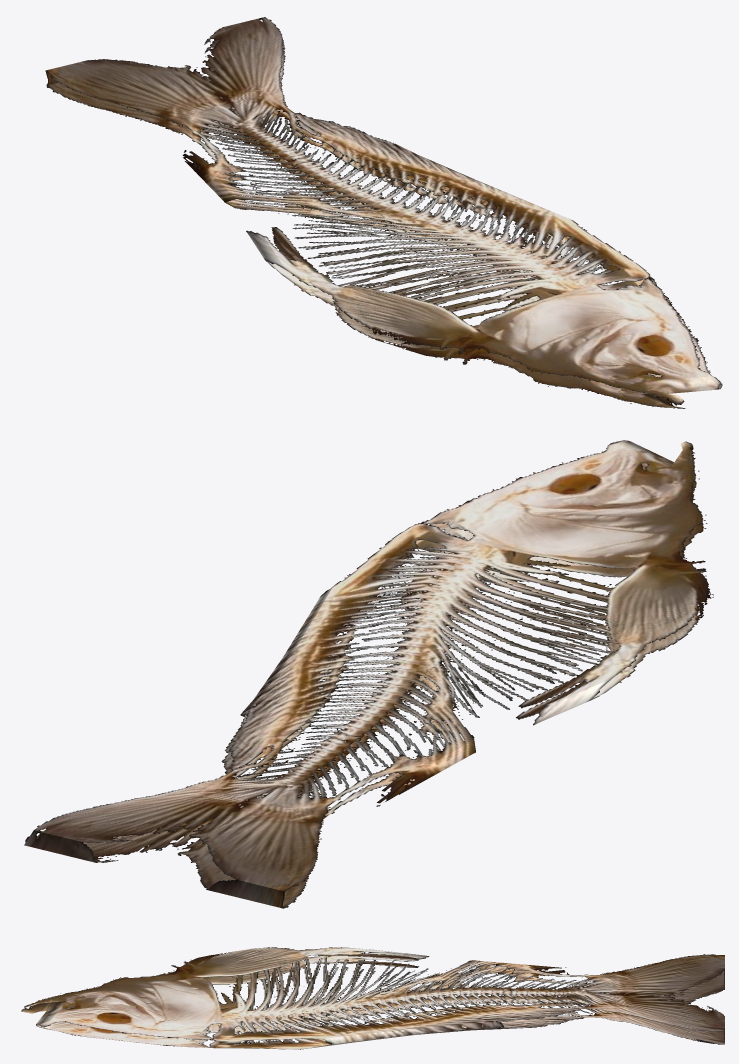
The model's file is PeineFeo.fbx.
3 renders of one model, top to bottom at view 1: azimuth 30°, elevation 25°; view 2: azimuth 150°, elevation 25°; view 3: azimuth 270°, elevation 25°, orthographic. The views are drawn at different scales.
Parts seen in each view (by area): view 1: Cube; view 2: Cube; view 3: Cube.
Part boxes in pixels (x1,y1,x2,y2): Cube: (45, 17, 722, 408); Cube: (24, 440, 713, 908); Cube: (21, 947, 724, 1049).
Size of the model in its own units: 143 by 6.97 by 415.
